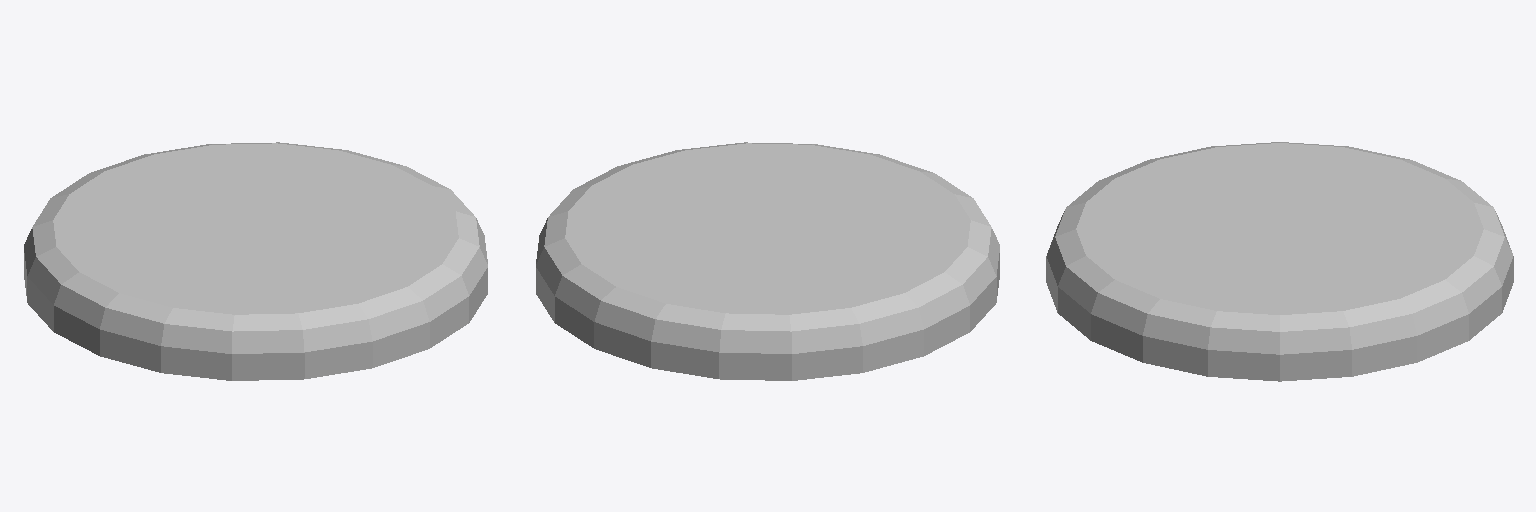
File: crest.obj
3 views of the same model, side by side, from view 1: azimuth 30°, elevation 25°; view 2: azimuth 150°, elevation 25°; view 3: azimuth 270°, elevation 25° (orthographic).
Parts seen in each view (by area): view 1: pCylinder1; view 2: pCylinder1; view 3: pCylinder1.
Part boxes in pixels (bbox=[...]): pCylinder1: bbox=[24, 142, 487, 380]; pCylinder1: bbox=[536, 142, 999, 380]; pCylinder1: bbox=[1046, 142, 1513, 381].
Size of the model in its own units: 1.15 by 0.1459 by 1.15.